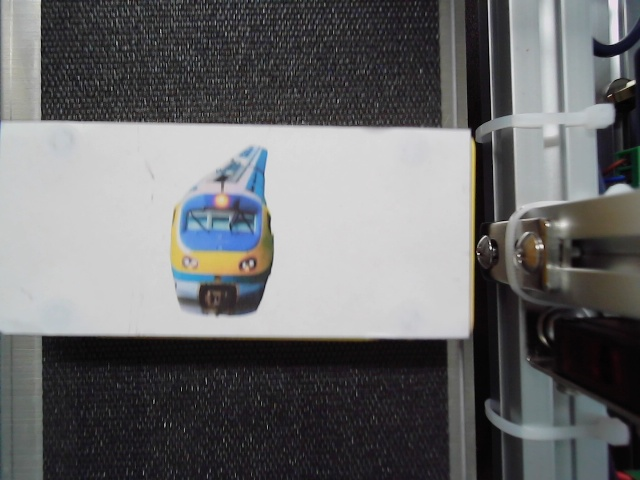train: (170, 144, 274, 317)
